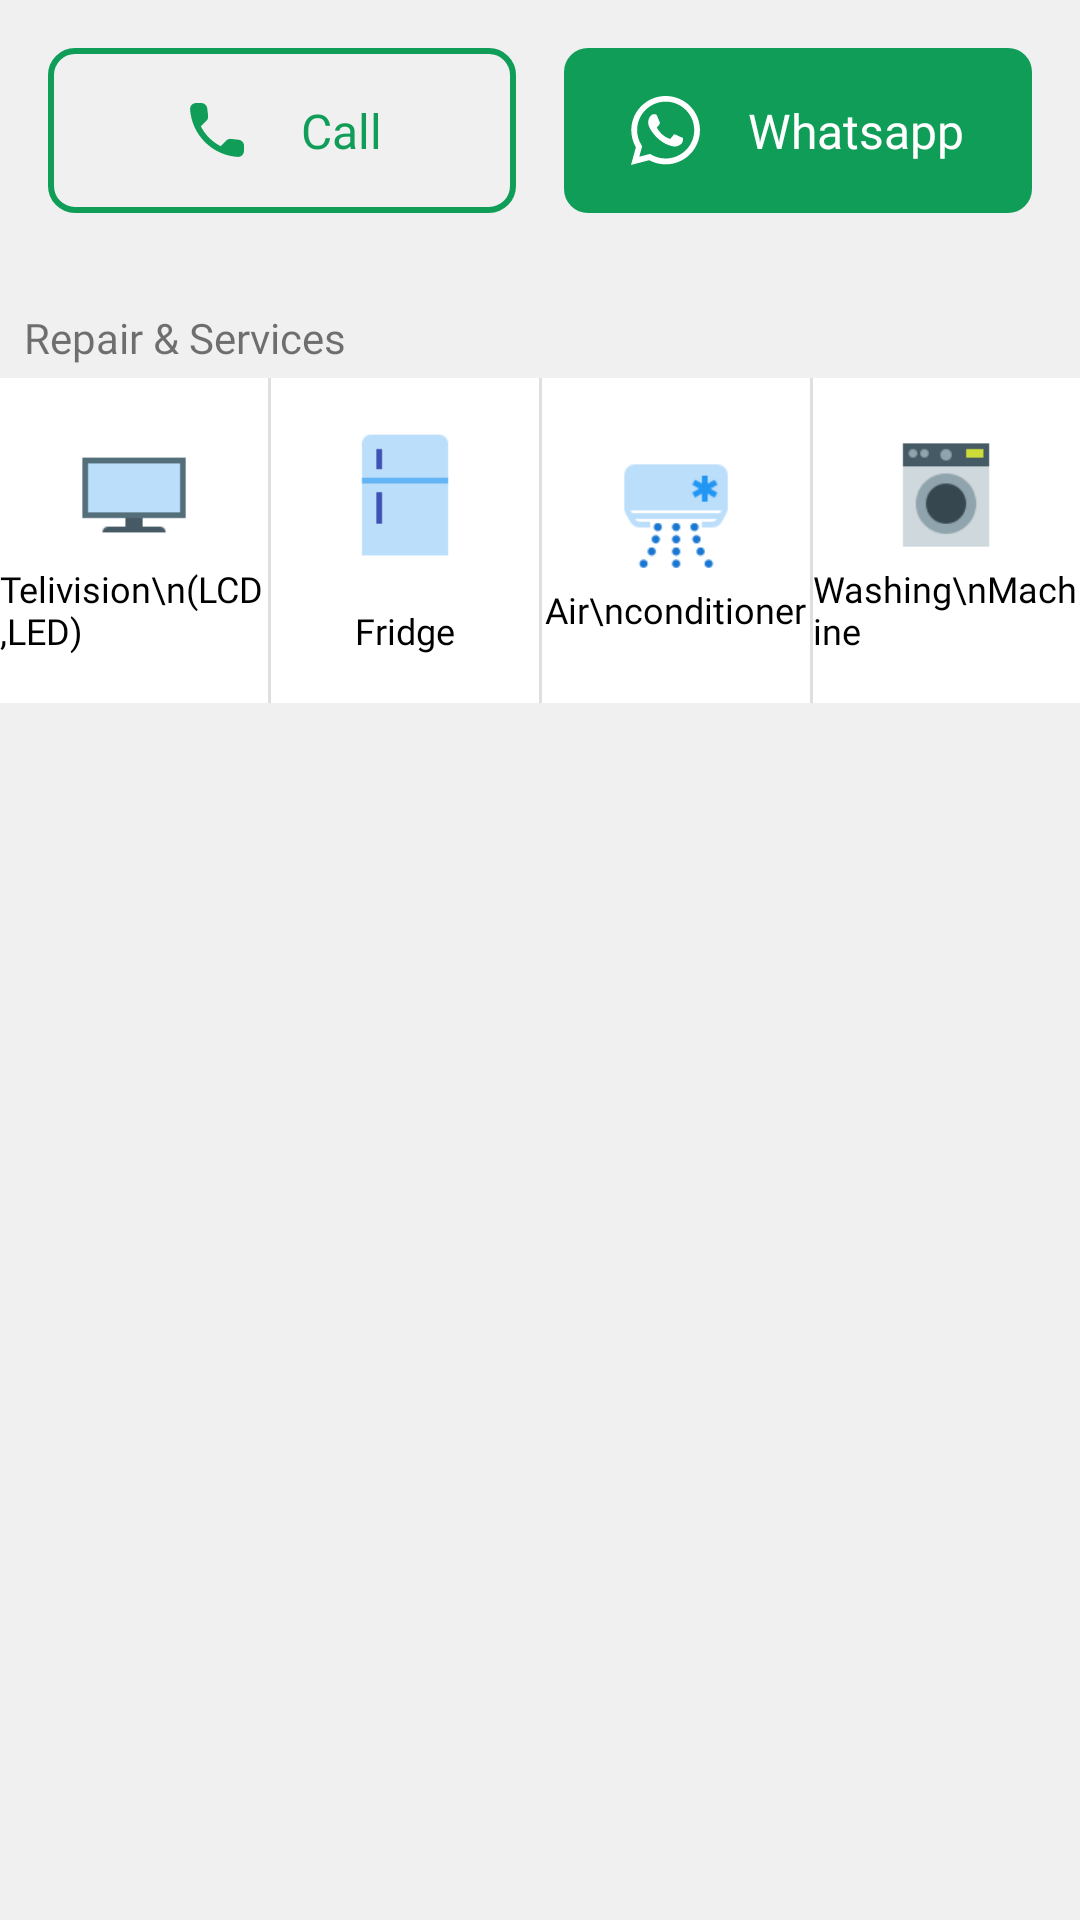

Point at icon controls on the screen. Image size 1080x1920, points as (x,y).
phone: (217,130)
